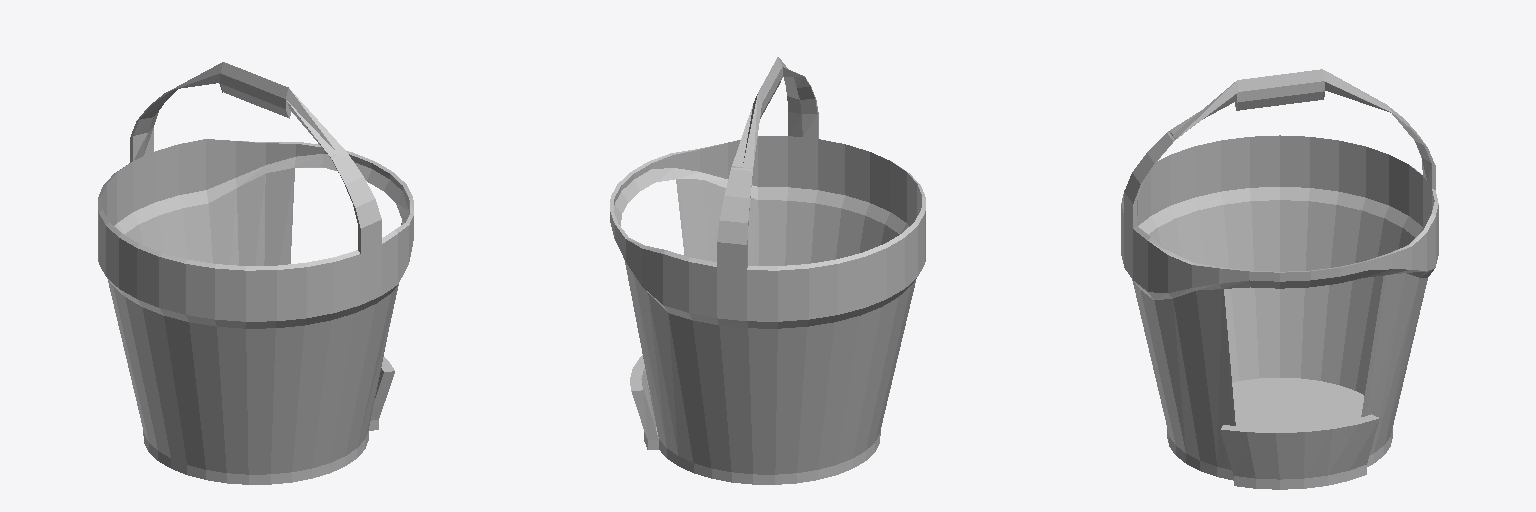
The model's file is Bucket w_Hole 2.obj.
3 views of the same model, side by side, from view 1: azimuth 30°, elevation 25°; view 2: azimuth 150°, elevation 25°; view 3: azimuth 270°, elevation 25° (orthographic).
Parts seen in each view (by area): view 1: Cylinder; view 2: Cylinder; view 3: Cylinder.
Boxes of the visible parts, x1,y1,x2,y2 form: Cylinder: [98, 62, 413, 484]; Cylinder: [610, 57, 925, 484]; Cylinder: [1121, 69, 1438, 489].
Size of the model in its own units: 2.81 by 3.55 by 2.81.